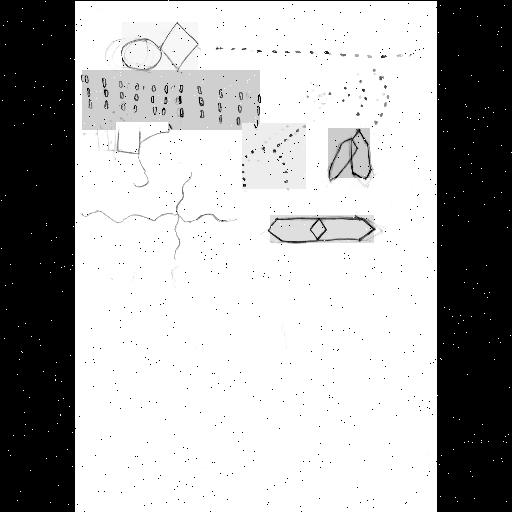shape-1: (122, 22, 198, 70)
shape-2: (218, 44, 412, 58)
shape-3: (82, 70, 260, 130)
shape-4: (327, 66, 391, 124)
shape-5: (116, 122, 168, 186)
shape-6: (242, 123, 306, 189)
shape-7: (83, 170, 229, 260)
shape-8: (328, 128, 370, 178)
shape-9: (270, 215, 374, 243)
